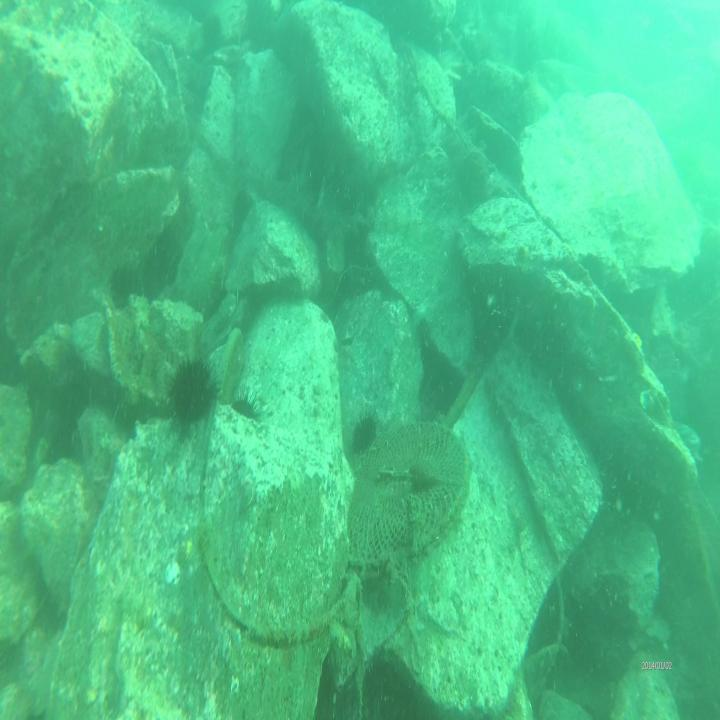echinus: (166, 351, 219, 424), (228, 381, 261, 428), (108, 266, 140, 314), (349, 409, 378, 460)
